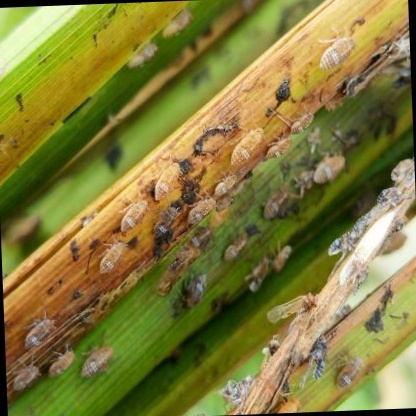Brown_hopper: (145, 225, 202, 299), (263, 281, 319, 342), (320, 347, 369, 395), (223, 119, 266, 172), (76, 341, 119, 393), (302, 148, 349, 195), (310, 31, 358, 77), (212, 223, 251, 275), (150, 160, 181, 207), (115, 191, 146, 238), (8, 352, 38, 400), (17, 313, 54, 349), (150, 197, 179, 240), (89, 247, 130, 277), (266, 233, 293, 276), (283, 101, 314, 138), (183, 192, 212, 231), (208, 169, 233, 200)
